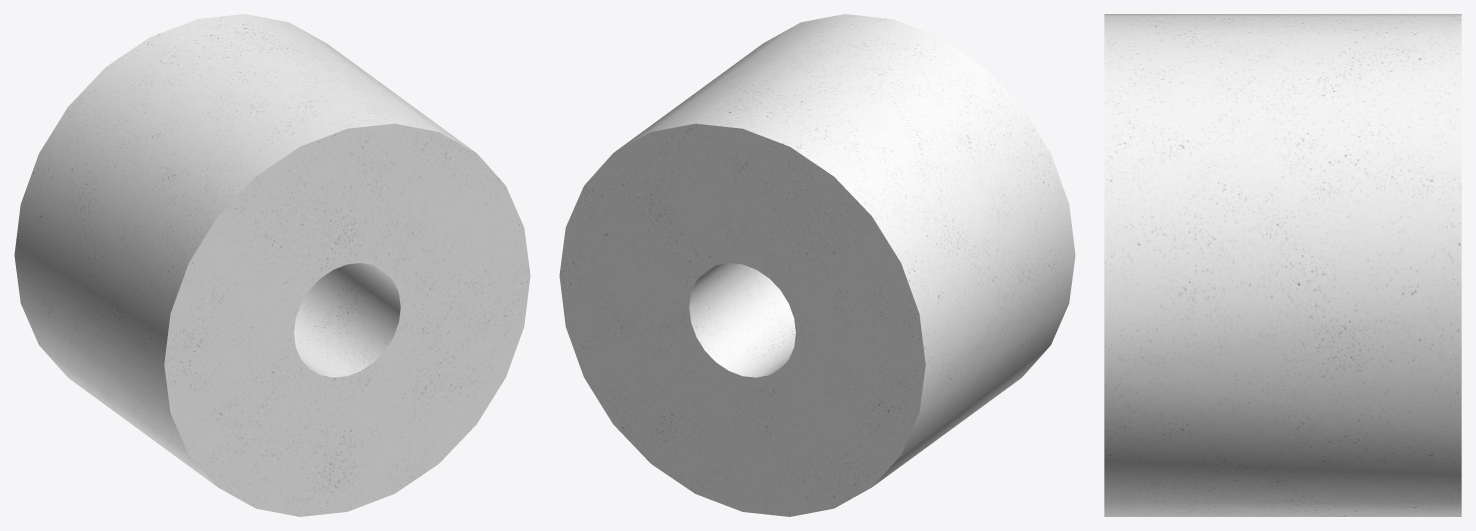
3 renders of one model, left to right at view 1: azimuth 30°, elevation 25°; view 2: azimuth 150°, elevation 25°; view 3: azimuth 270°, elevation 25°, orthographic. The views are drawn at different scales.
Bounding box in the file's own units: 0.12 × 0.12 × 0.085.
Materials: 1 (1 with a texture image).
